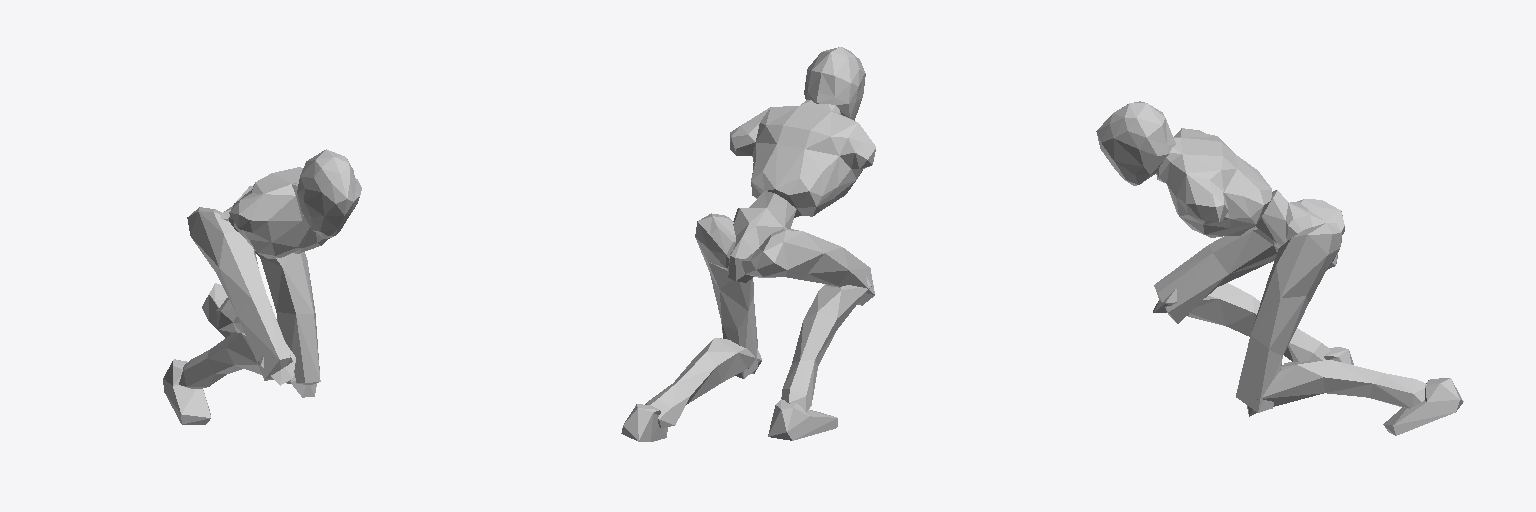
The model's file is filth21.obj.
3 views of the same model, side by side, from view 1: azimuth 30°, elevation 25°; view 2: azimuth 150°, elevation 25°; view 3: azimuth 270°, elevation 25° (orthographic).
Visible parts, largest first — view 1: Melee_Husk; view 2: Melee_Husk; view 3: Melee_Husk.
Boxes of the visible parts, <box> form: Melee_Husk: <box>163,149,361,424</box>; Melee_Husk: <box>621,47,875,441</box>; Melee_Husk: <box>1096,101,1463,435</box>.
Bounding box in the file's own units: 22.14 × 45.21 × 48.7.